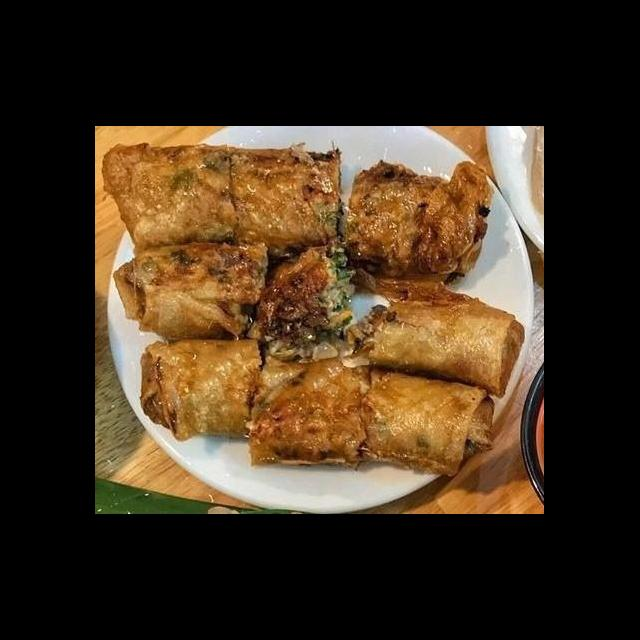cha gio: (96, 139, 362, 346), (341, 151, 504, 307), (348, 266, 526, 403), (235, 337, 388, 477), (346, 354, 504, 482), (132, 328, 276, 457)
